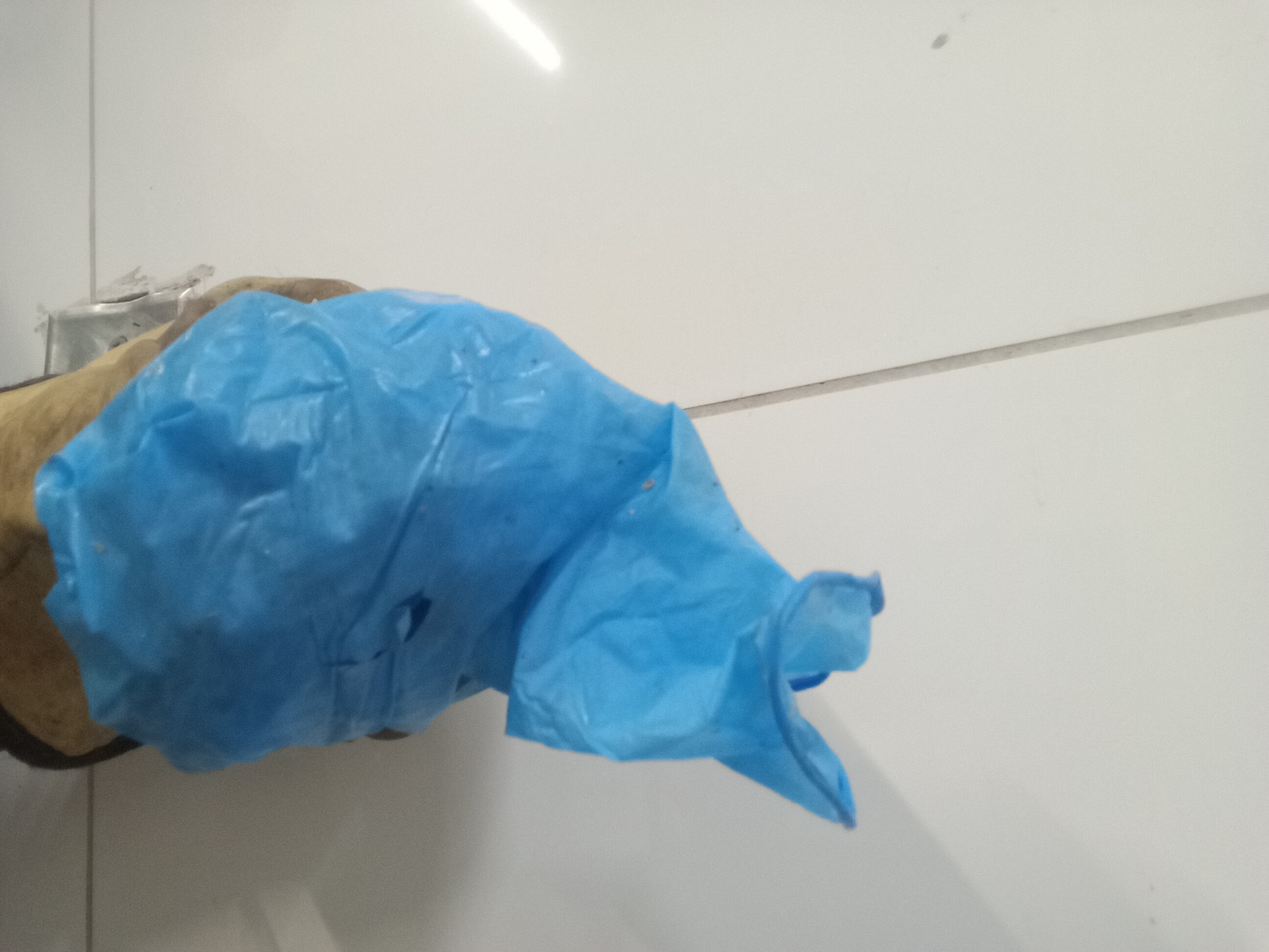Ordinario: (35, 291, 881, 827)
